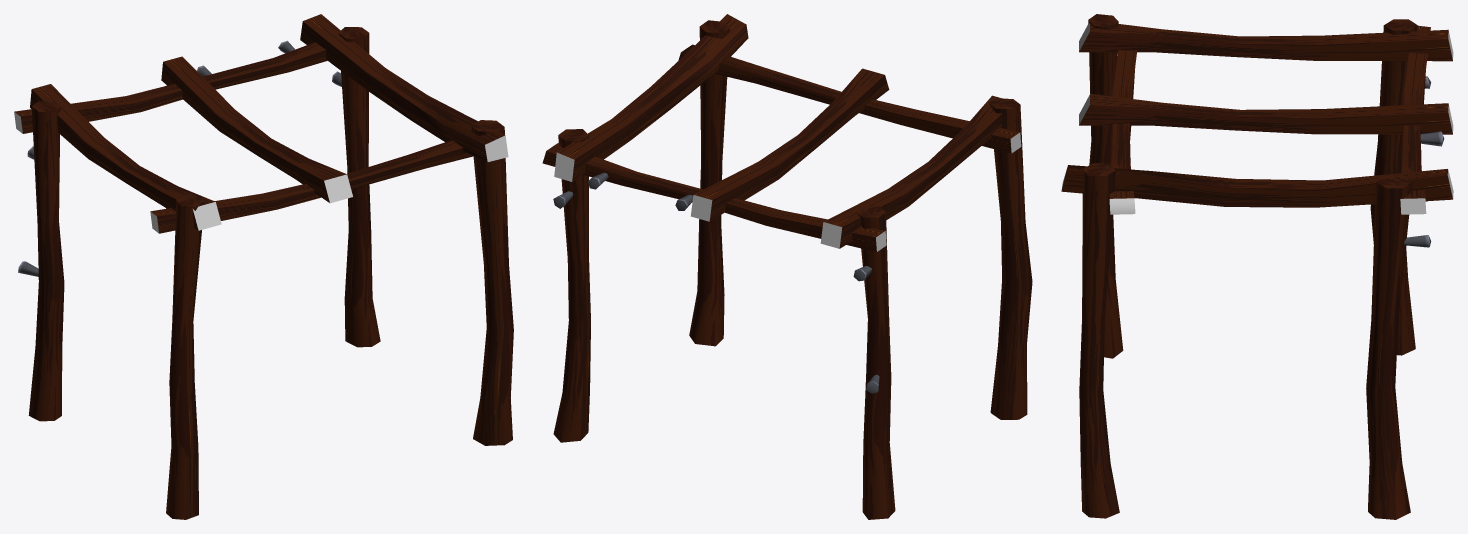
The model's file is SM_PROP_market_v02_02.fbx.
3 views of the same model, side by side, from view 1: azimuth 30°, elevation 25°; view 2: azimuth 150°, elevation 25°; view 3: azimuth 270°, elevation 25° (orthographic). The views are drawn at different scales.
Visible parts, largest first — view 1: SM_PROP_market_v02_02; view 2: SM_PROP_market_v02_02; view 3: SM_PROP_market_v02_02.
Part boxes in pixels (x1,y1,x2,y2): SM_PROP_market_v02_02: [14, 14, 513, 519]; SM_PROP_market_v02_02: [542, 14, 1032, 519]; SM_PROP_market_v02_02: [1061, 14, 1453, 519].
Bounding box in the file's own units: 391 × 345 × 362.
